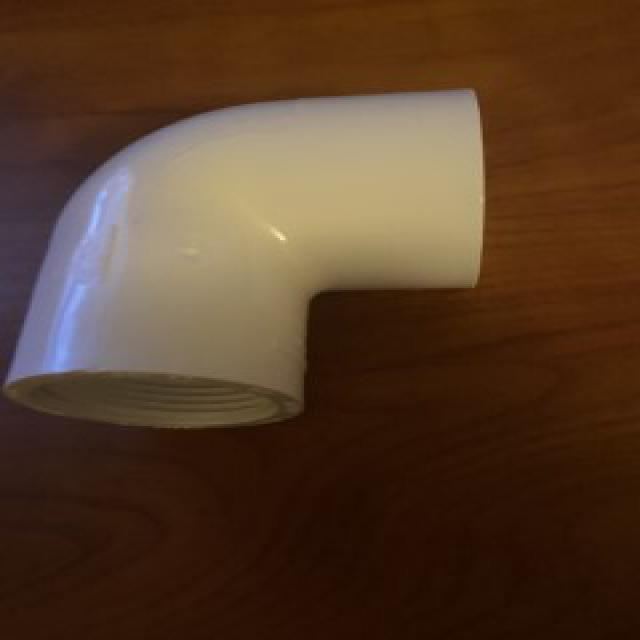L Joint: (4, 88, 487, 432)
